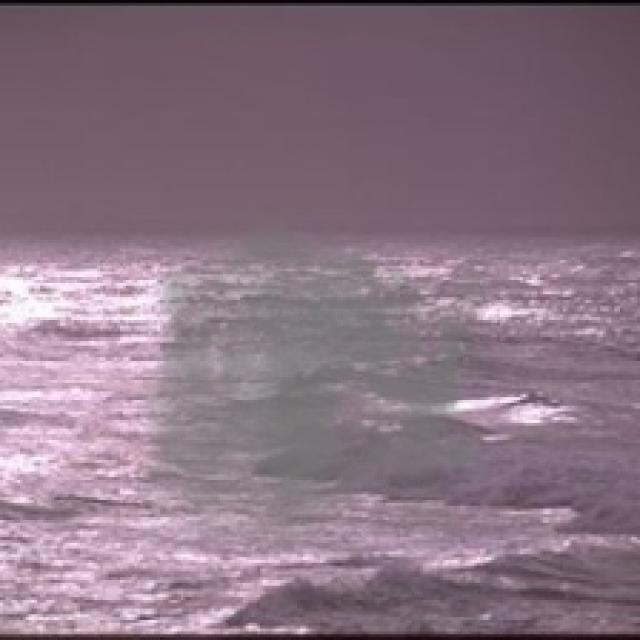Smoke: (137, 202, 489, 554)
